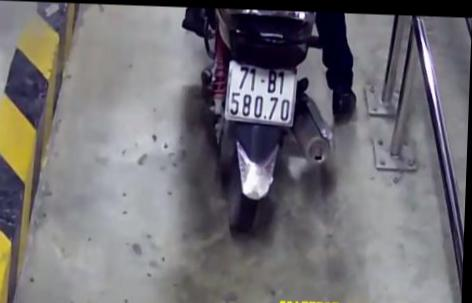LP: (226, 58, 300, 126)
